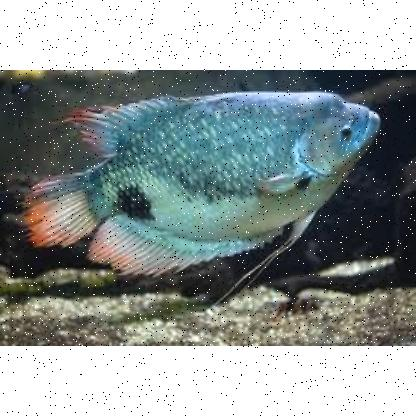gurame: (39, 93, 383, 267)
